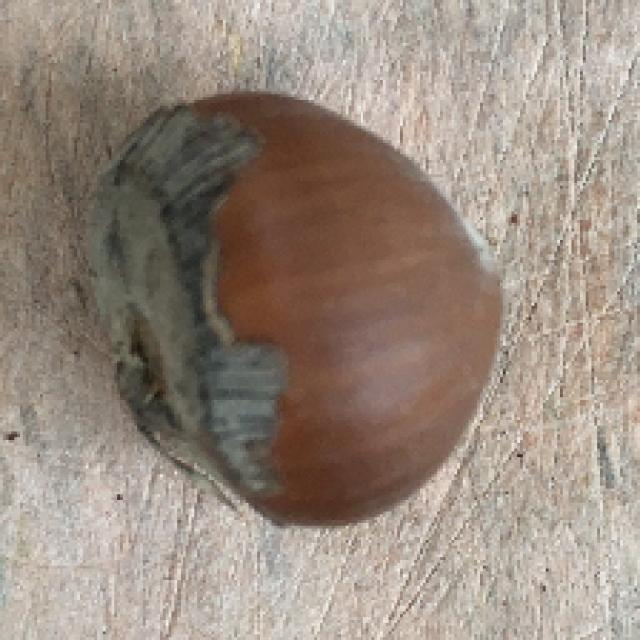damagedHazelnut: (83, 84, 507, 533)
